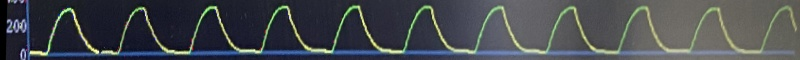normal_volume: (30, 0, 800, 60)
